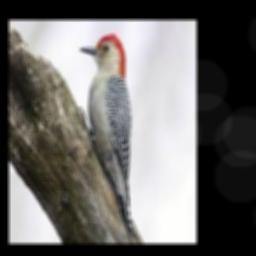Woodpecker: (80, 34, 142, 243)
